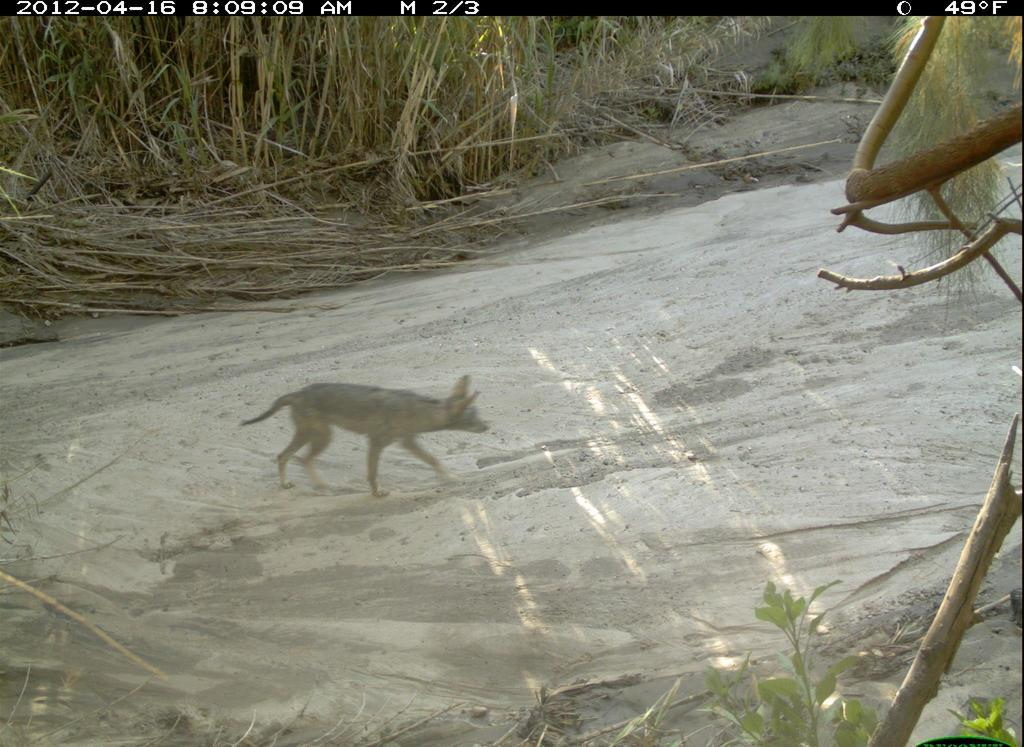coyote: (235, 373, 493, 498)
